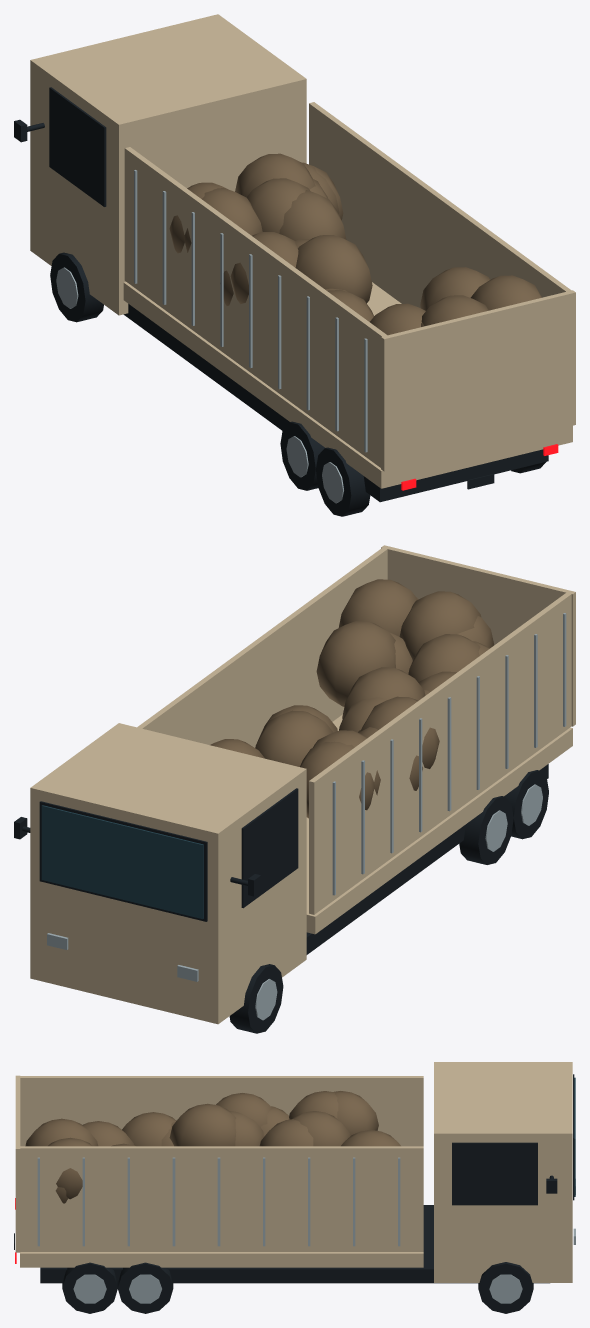
Rendered from traffic-gravel.glb.
The picture shows the model from 3 angles, top to bottom: view 1: azimuth 30°, elevation 25°; view 2: azimuth 150°, elevation 25°; view 3: azimuth 270°, elevation 25°; orthographic projection. The views are drawn at different scales.
Parts seen in each view (by area): view 1: lod_body, lod_accent, lod_dark, lod_metal; view 2: lod_body, lod_accent, lod_dark, lod_glass, lod_metal; view 3: lod_body, lod_dark, lod_accent, lod_metal.
Boxes of the visible parts, box(x1,y1,x2,y2) form: lod_body: box(30, 14, 575, 488); lod_accent: box(169, 153, 541, 335); lod_dark: box(14, 87, 548, 516); lod_metal: box(56, 170, 367, 503); lod_body: box(30, 545, 575, 1024); lod_accent: box(210, 579, 493, 818); lod_dark: box(14, 764, 548, 1033); lod_glass: box(41, 805, 203, 919); lod_metal: box(47, 613, 566, 1020); lod_body: box(15, 1062, 572, 1282); lod_dark: box(14, 1074, 574, 1313); lod_accent: box(25, 1091, 400, 1203); lod_metal: box(37, 1157, 575, 1303).
Size of the model in its own units: 3.13 by 2.84 by 8.11.
